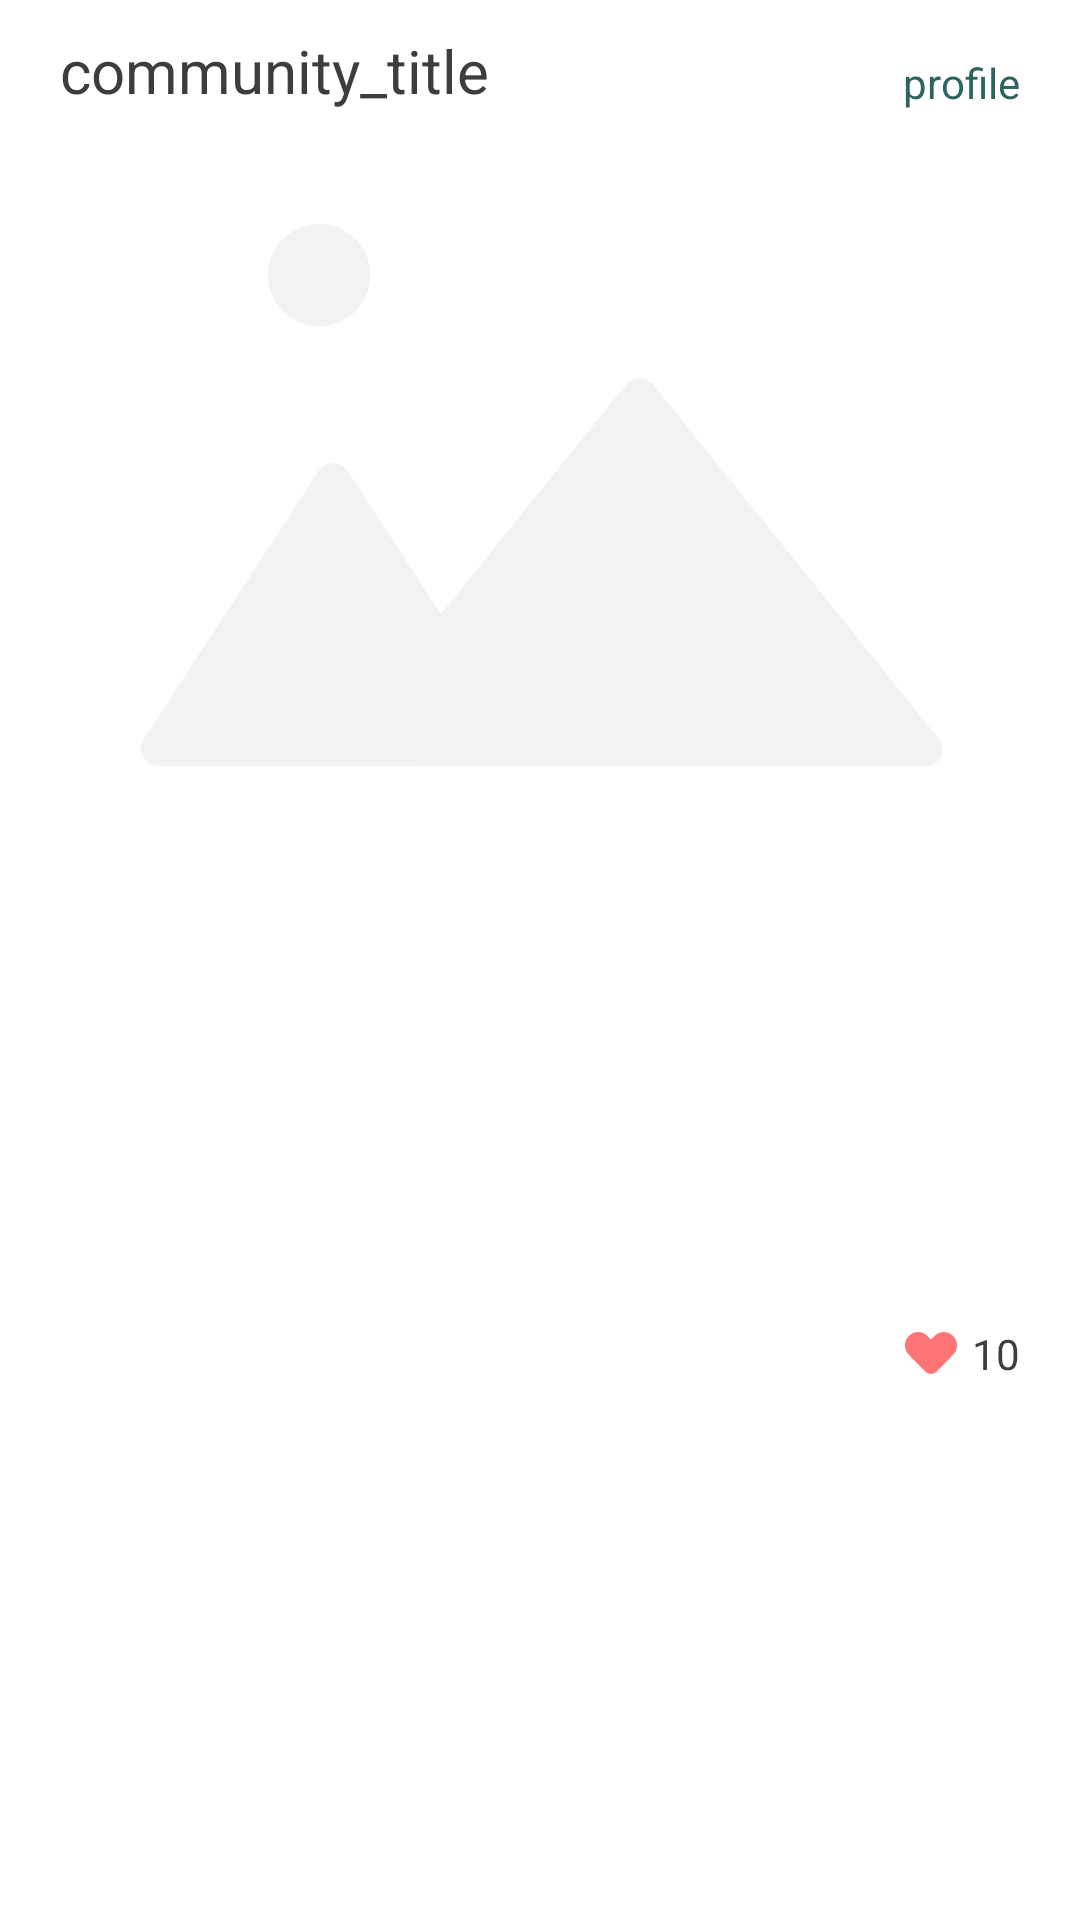

Named icons in this screenshot (1080px×1920px) and their bounding boxes, [x1=x1, y1=y1, x2=x2, y2=y2]:
heart: [x1=905, y1=1332, x2=957, y2=1374]
